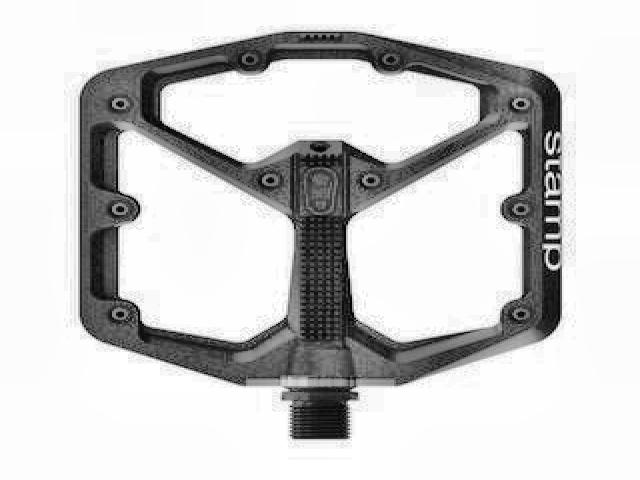pedal: (74, 26, 571, 445)
